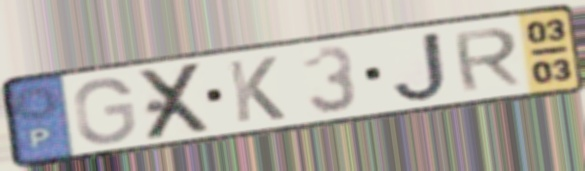3: (298, 43, 360, 117)
G: (70, 75, 139, 147)
J: (389, 28, 451, 106)
K: (224, 54, 288, 126)
R: (449, 25, 526, 95)
X: (136, 59, 216, 144)
